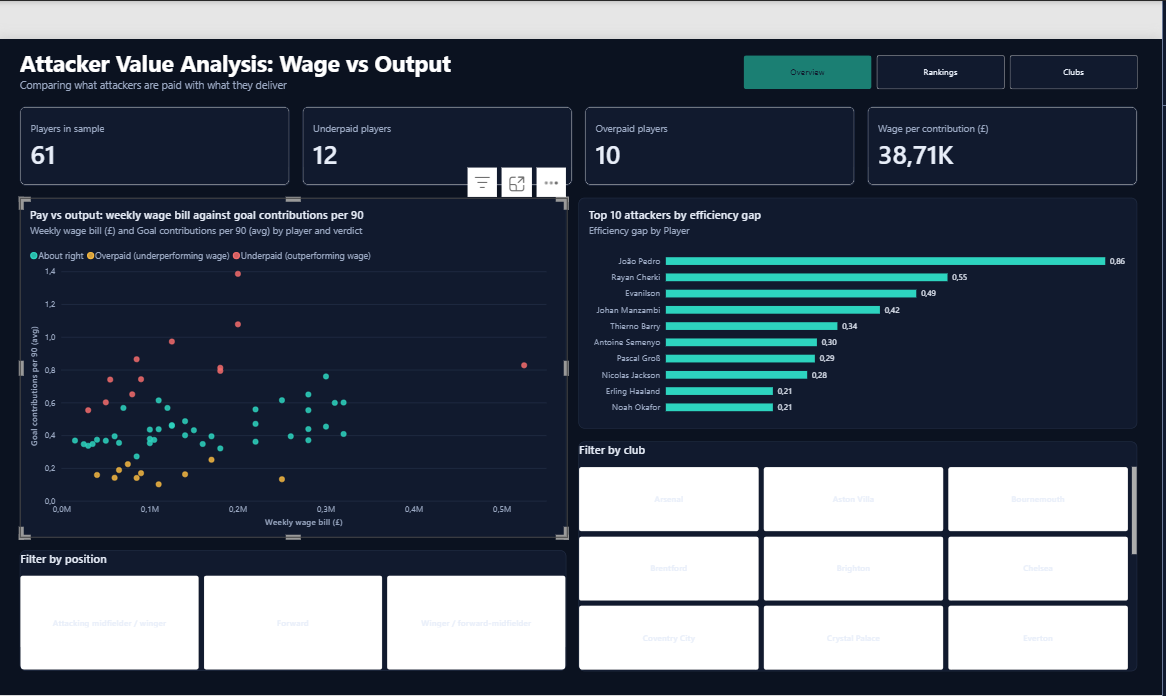

The page's visual inventory and layout, read from the dashboard file:
{"tool":"powerbi","page":{"name":"Overview","canvas":[1920,1080],"ordinal":0},"visuals":[{"type":"cardVisual","fields":{"Data":["pbi_attackers.Players"]},"box":[40,112,445,130],"z":0},{"type":"cardVisual","fields":{"Data":["pbi_attackers.Underpaid Count"]},"box":[505,112,445,130],"z":1},{"type":"cardVisual","fields":{"Data":["pbi_attackers.Overpaid Count"]},"box":[970,112,445,130],"z":2},{"type":"cardVisual","fields":{"Data":["pbi_attackers.Wage per Contribution"]},"box":[1435,112,445,130],"z":3},{"type":"scatterChart","title":"Pay vs output: weekly wage bill against goal contributions per 90","fields":{"Category":["pbi_attackers.player"],"Series":["pbi_attackers.verdict"],"X":["pbi_attackers.Weekly Wage Bill"],"Y":["Avg(pbi_attackers.ga_per90)"]},"box":[40,262,900,560],"z":4},{"type":"clusteredBarChart","title":"Top 10 attackers by efficiency gap","fields":{"Category":["pbi_attackers.player"],"Y":["Sum(pbi_attackers.efficiency_gap)"]},"box":[960,262,920,380],"z":5},{"type":"advancedSlicerVisual","title":"Filter by club","fields":{"Values":["pbi_attackers.squad"]},"box":[960,662,920,378],"z":6},{"type":"advancedSlicerVisual","title":"Filter by position","fields":{"Values":["pbi_attackers.position_group"]},"box":[40,842,900,198],"z":7},{"type":"textbox","box":[40,14,1150,56],"z":20},{"type":"textbox","box":[40,64,1150,34],"z":21},{"type":"pageNavigator","box":[1230,26,650,56],"z":22}]}

Visuals, with their boxes on the page's 1920x1080 design canvas (x1, y1, x2, y2). These are canvas units, not pixel positions in the 1166x696 screenshot, which may show the page scaled, cropped or inside an application window:
cardVisual - pbi_attackers.Players: [left=40, top=112, right=485, bottom=242]
cardVisual - pbi_attackers.Underpaid Count: [left=505, top=112, right=950, bottom=242]
cardVisual - pbi_attackers.Overpaid Count: [left=970, top=112, right=1415, bottom=242]
cardVisual - pbi_attackers.Wage per Contribution: [left=1435, top=112, right=1880, bottom=242]
"Pay vs output: weekly wage bill against goal contributions per 90" scatterChart: [left=40, top=262, right=940, bottom=822]
"Top 10 attackers by efficiency gap" clusteredBarChart: [left=960, top=262, right=1880, bottom=642]
"Filter by club" advancedSlicerVisual: [left=960, top=662, right=1880, bottom=1040]
"Filter by position" advancedSlicerVisual: [left=40, top=842, right=940, bottom=1040]
textbox: [left=40, top=14, right=1190, bottom=70]
textbox: [left=40, top=64, right=1190, bottom=98]
pageNavigator: [left=1230, top=26, right=1880, bottom=82]
